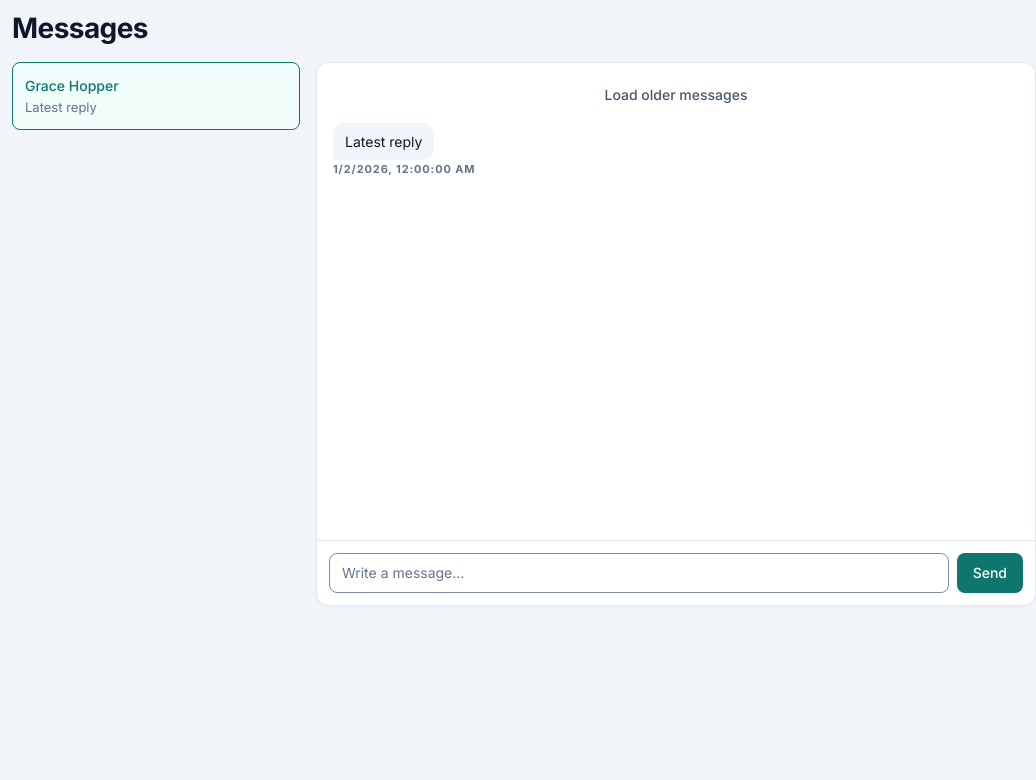
Test: MessagesPage › loads the most recent page, then loads an older page and orders messages oldest-first
Expected: the 2nd text "Latest reply" is shown, [333,123,434,160]
Click the button "Load older messages" at (676, 95), box [592,79,760,111]
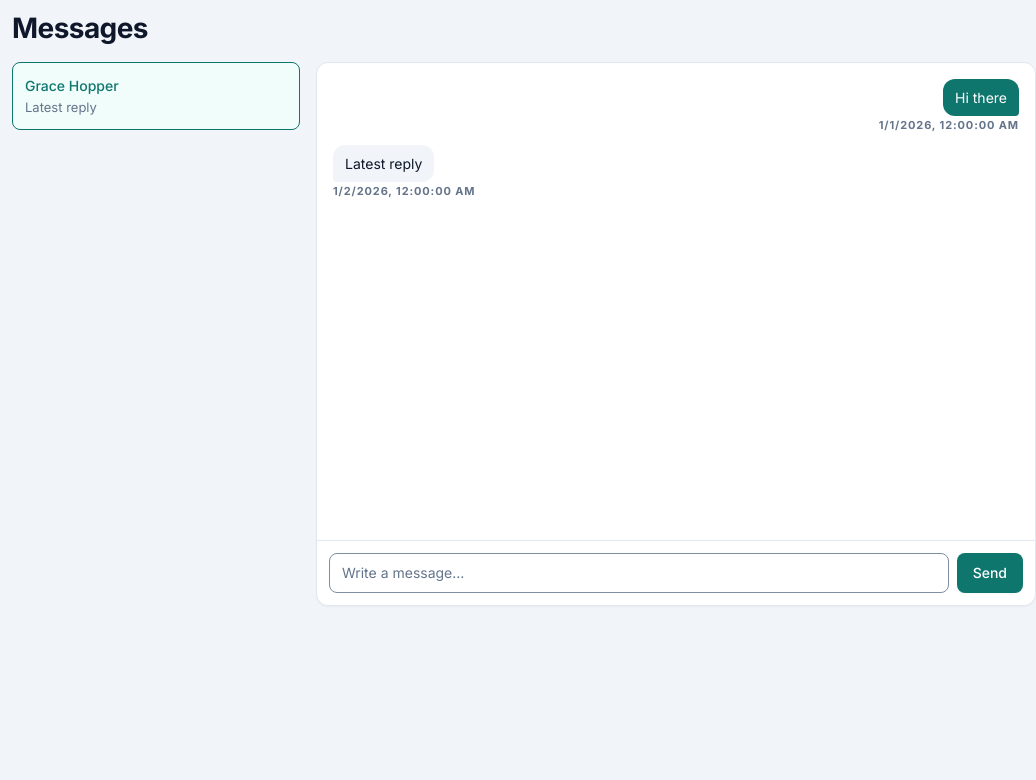
Now the text "Hi there" is shown, box [943,79,1019,116]
